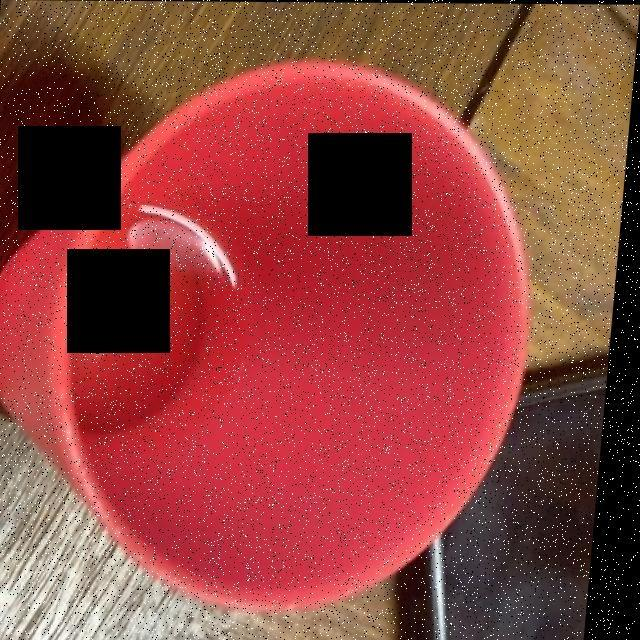wine: (75, 213, 242, 437)
